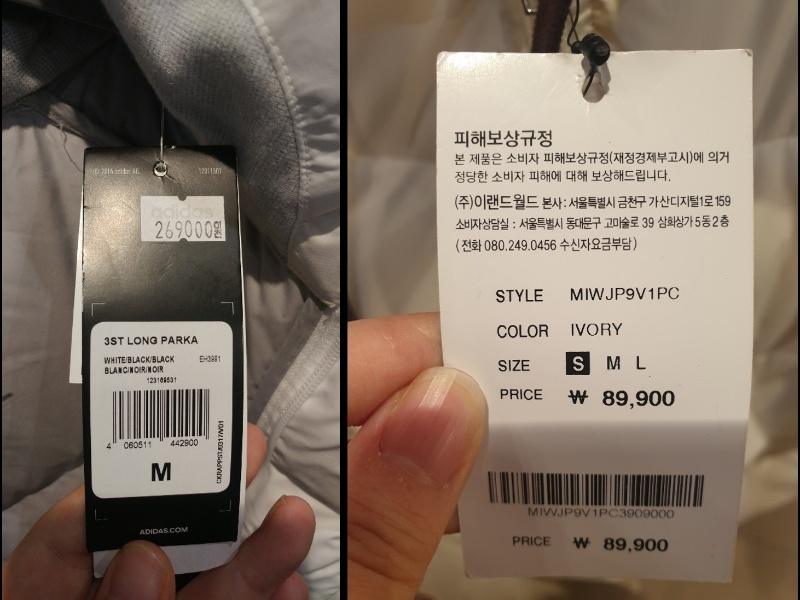tag: (432, 50, 756, 584), (83, 143, 241, 544)
text: (454, 188, 733, 253), (453, 146, 733, 182), (527, 503, 679, 522), (571, 530, 673, 558), (452, 123, 556, 150), (566, 388, 678, 413), (567, 283, 686, 305), (153, 219, 225, 242), (99, 332, 202, 347), (566, 318, 626, 342), (491, 322, 556, 342), (490, 286, 547, 308), (499, 384, 546, 403), (509, 532, 552, 550), (490, 357, 535, 374), (102, 354, 176, 364), (102, 364, 168, 375), (144, 374, 182, 386), (167, 437, 201, 450), (196, 352, 224, 367), (119, 439, 155, 450)
